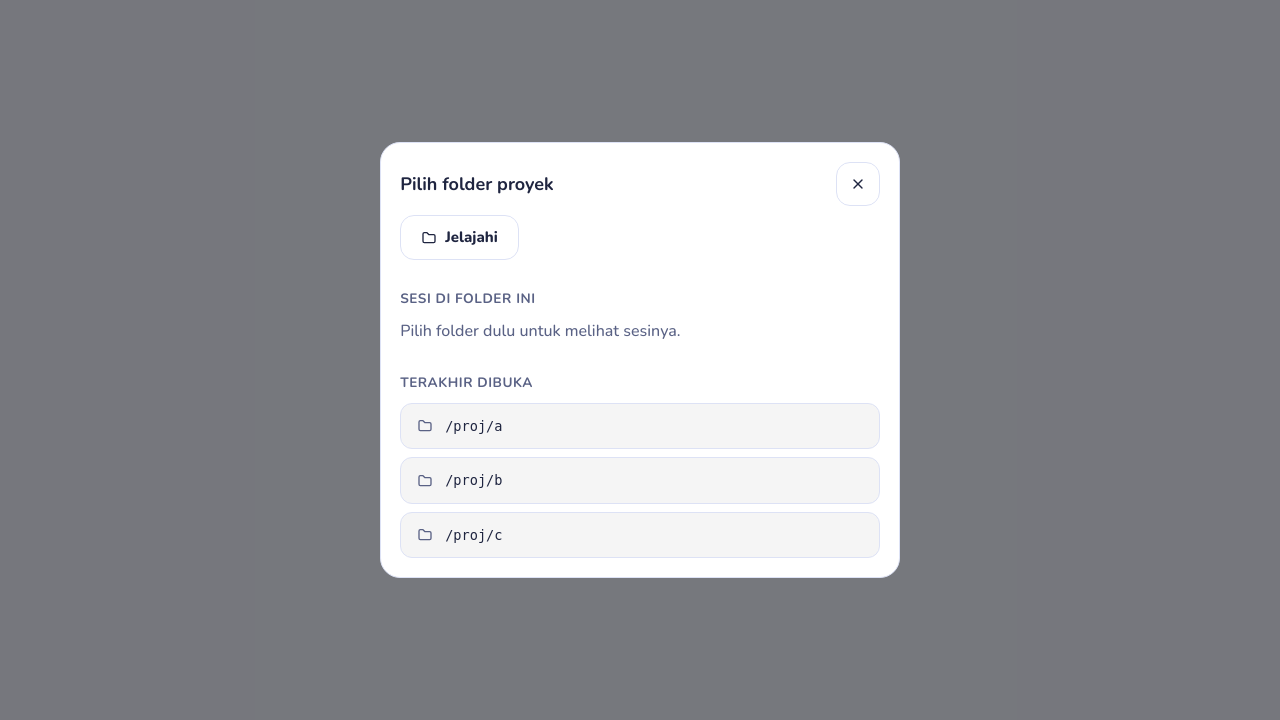
Test: Onboarding folder+sesi › folder tanpa sesi: tampil pesan kosong
The width and height of the screenshot is (1280, 720).
Click the button with test id "recent-/proj/c".
click(474, 535)  # box [400,512,880,558]
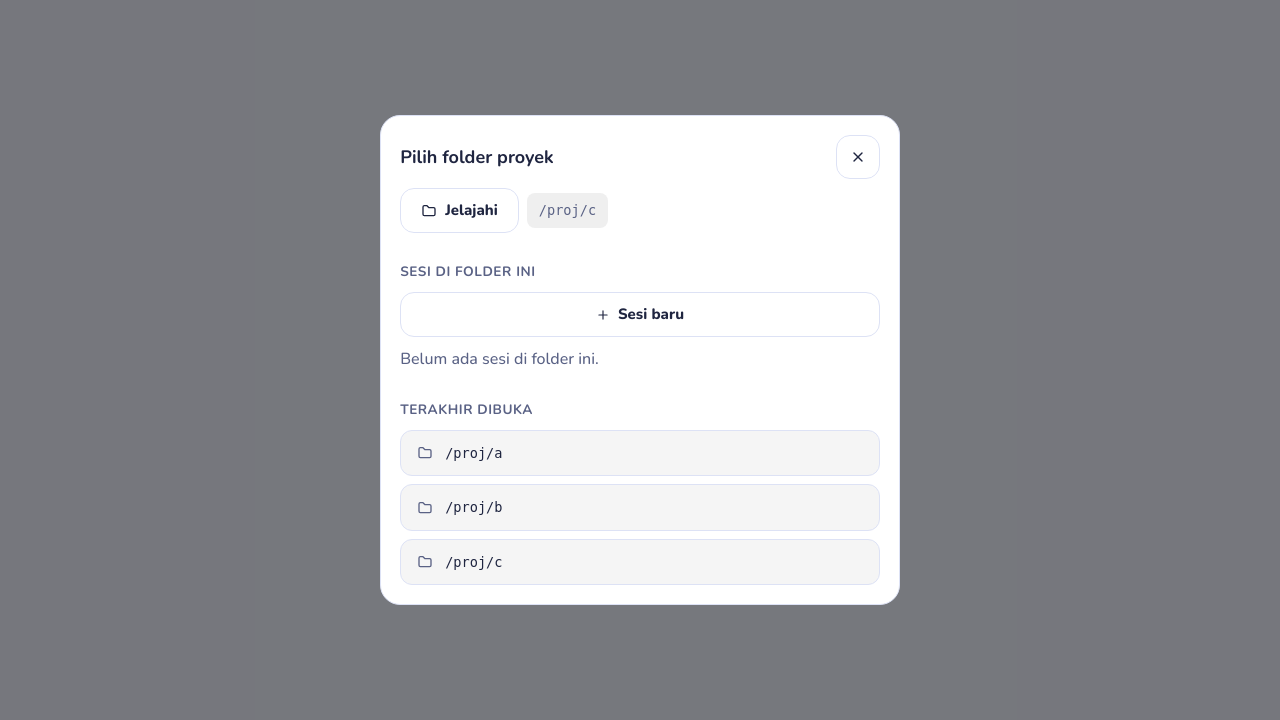
Check: the text "Belum ada sesi di folder ini." is shown, box [400,348,599,370]
Check: the button with test id "sess-new" is shown, box [400,292,880,337]
